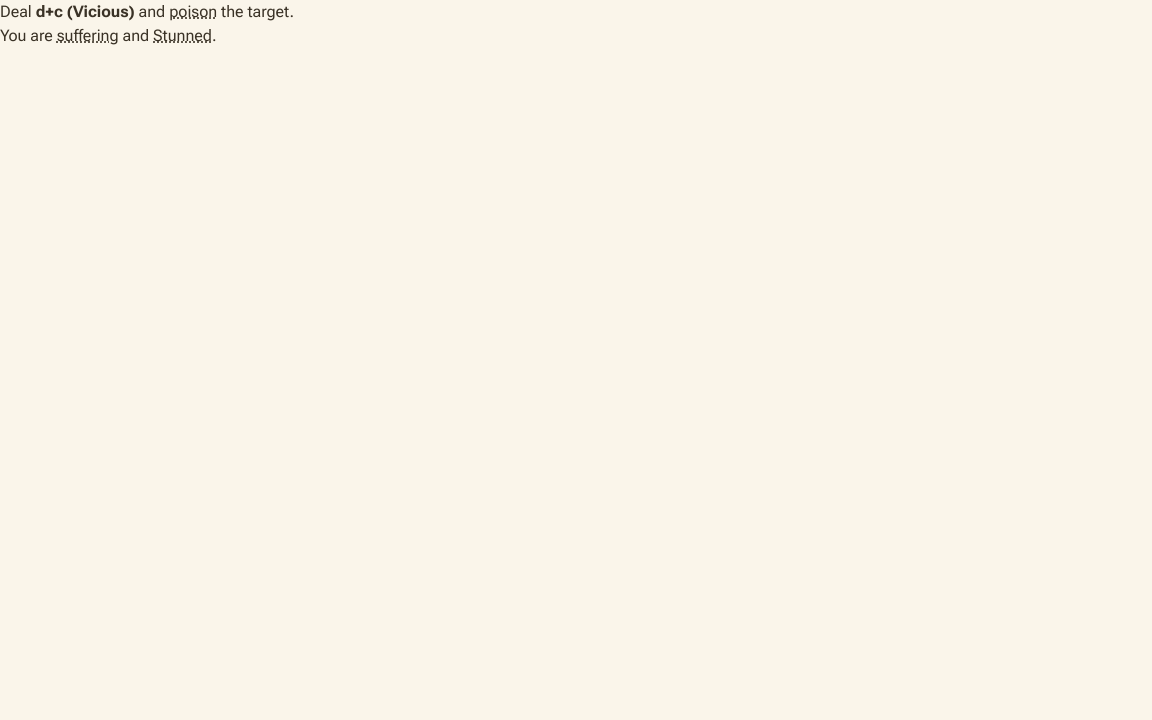
FormattedText › opens condition definitions on tap and dismisses on another tap or Escape
Click the button "suffering" at [88, 36], box [57,24,119,48]
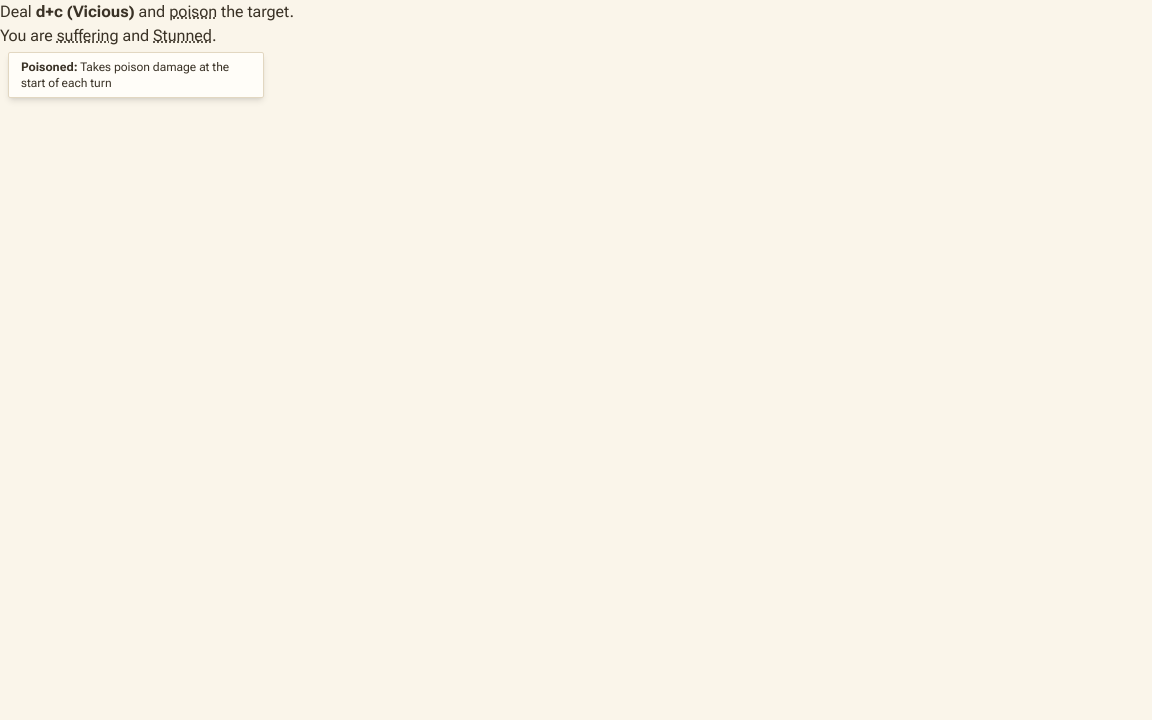
Now the dialog "Poisoned" shows "Takes poison damage at the start of each turn", box [21,60,229,90]
Click the button "suffering" at [88, 36], box [57,24,119,48]
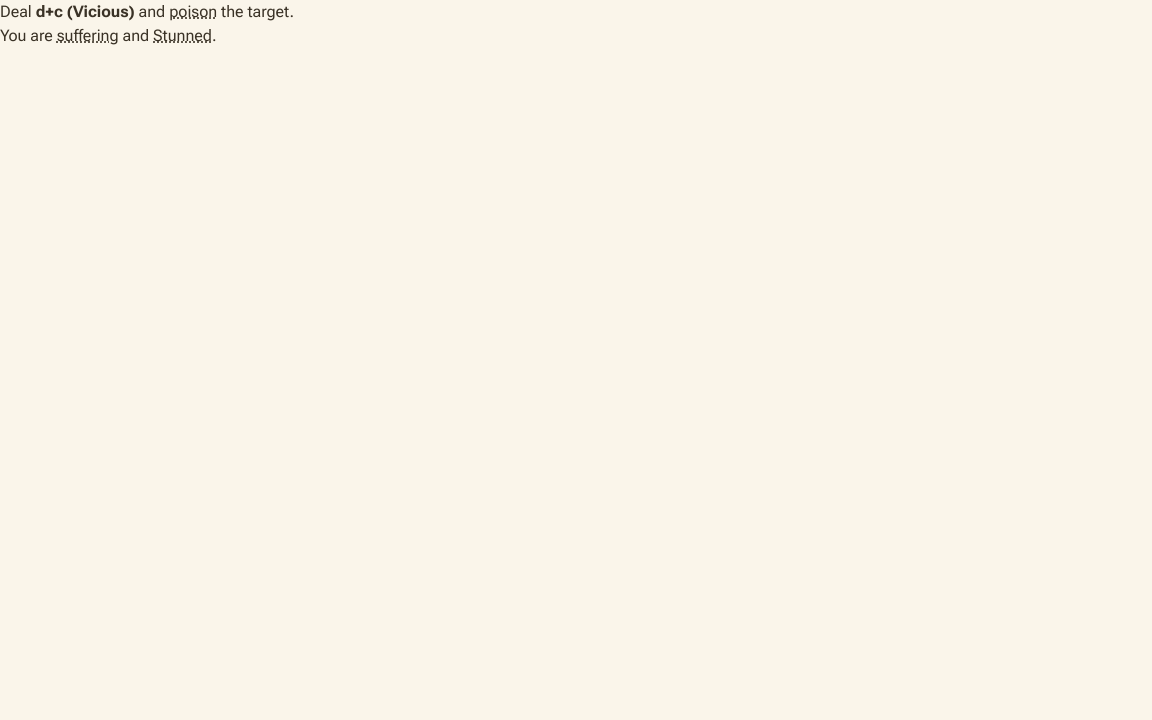
Now the dialog is gone
Click the button "Stunned" at [183, 36], box [153,24,212,48]
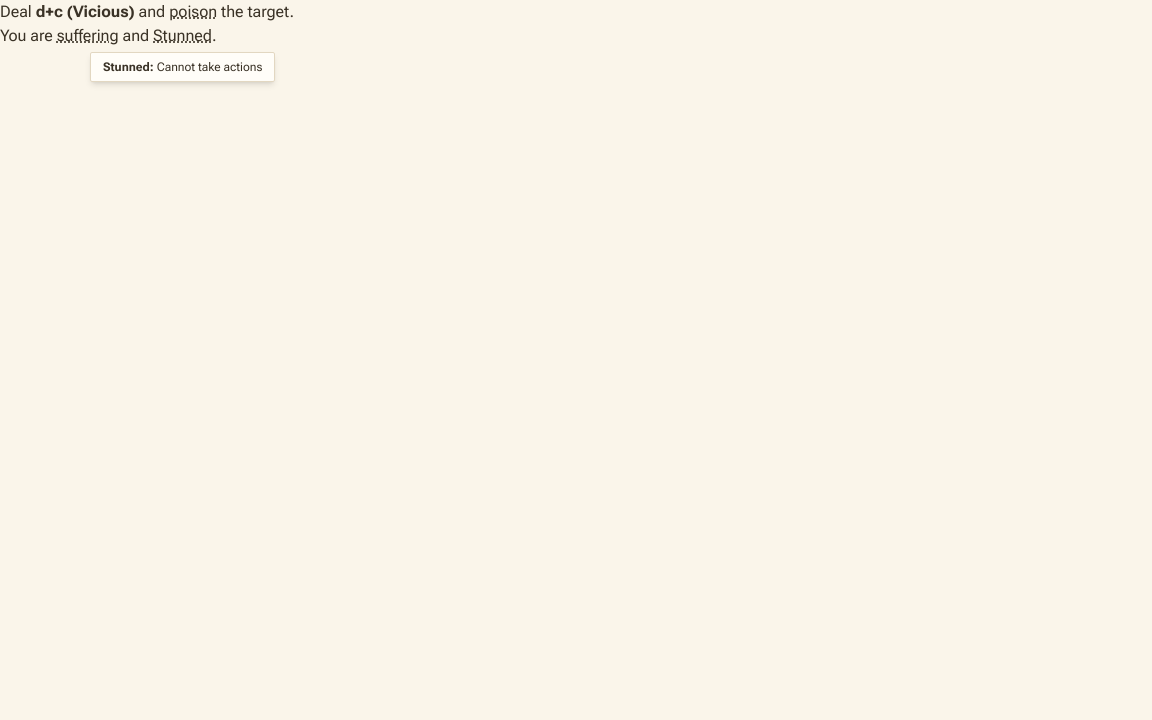
Now the dialog "Stunned" shows "Cannot take actions", box [157,60,262,74]
Press Escape
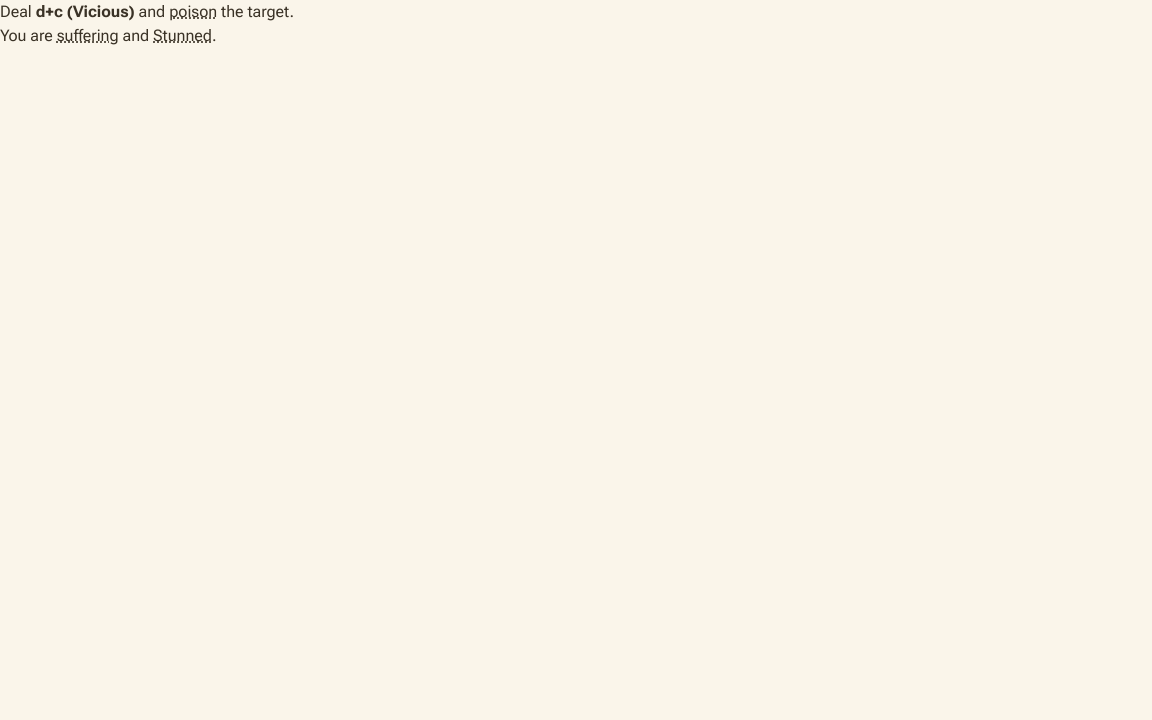
Now the dialog is gone
